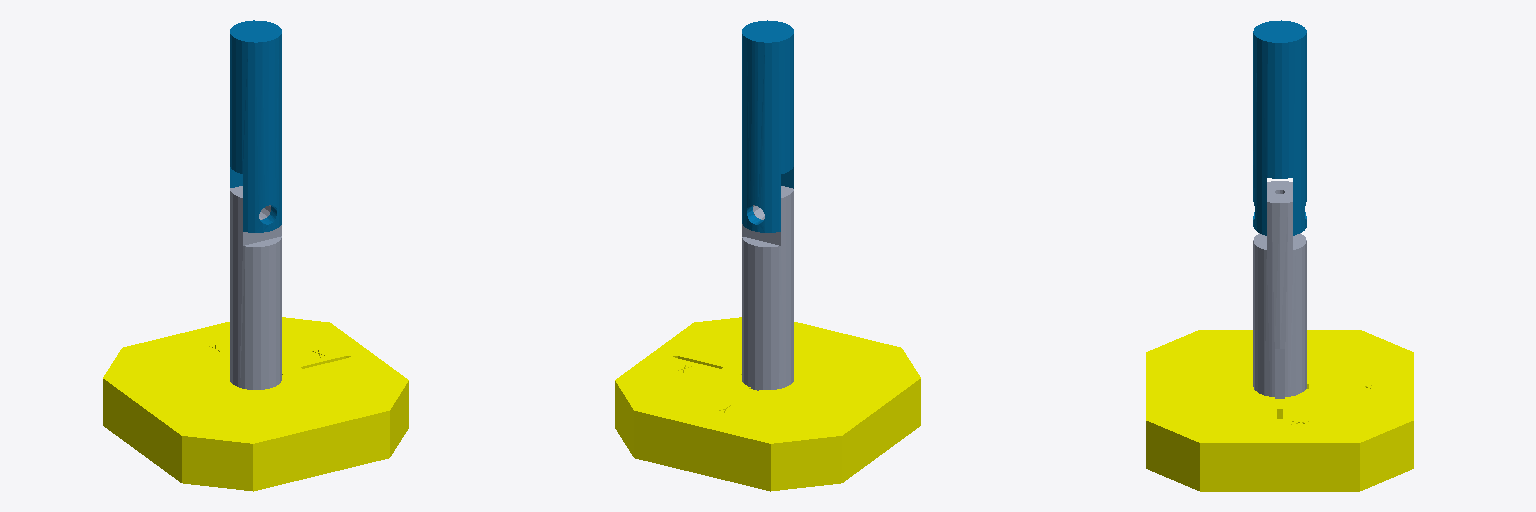
URDF robot description (mylink_urdf):
<?xml version="1.0" encoding="utf-8"?>
<!-- This URDF was automatically created by SolidWorks to URDF Exporter! Originally created by [author] ([email redacted]) 
     Commit Version: 1.5.1-0-g916b5db  Build Version: 1.5.7152.31018
     For more information, please see http://wiki.ros.org/sw_urdf_exporter -->
<robot
  name="mylink_urdf">

  <link name="world"/>
  <joint name="fixed" type="fixed">
    <parent link="world"/>
    <child link="base_link"/>
  </joint>

  <link
    name="base_link">
    <inertial>
      <origin
        xyz="-1.8503E-05 -3.9839E-06 0.0049956"
        rpy="0 0 0" />
      <mass
        value="22.169" />
      <inertia
        ixx="4.4372E-01"
        ixy="1.3719E-10"
        ixz="1.4194E-09"
        iyy="4.432E-01"
        iyz="1.3021E-10"
        izz="8.5002E-01" />
    </inertial>
    <visual>
      <origin
        xyz="0 0 0"
        rpy="0 0 0" />
      <geometry>
        <mesh
          filename="package://mylink_urdf/meshes/base_link.STL" />
      </geometry>
      <material
        name="">
        <color
          rgba="1 1 0 1" />
      </material>
    </visual>
    <collision>
      <origin
        xyz="0 0 0"
        rpy="0 0 0" />
      <geometry>
        <mesh
          filename="package://mylink_urdf/meshes/base_link.STL" />
      </geometry>
    </collision>
  </link>
  <link
    name="link_1">
    <inertial>
      <origin
        xyz="-2.4999E-05 5.1564E-10 -0.023575"
        rpy="0 0 0" />
      <mass
        value="9.5404" />
      <inertia
        ixx="1.7851E-01"
        ixy="0"
        ixz="0"
        iyy="1.7915E-01"
        iyz="0"
        izz="1.1684E-01" />
    </inertial>
    <visual>
      <origin
        xyz="0 0 0"
        rpy="0 0 0" />
      <geometry>
        <mesh
          filename="package://mylink_urdf/meshes/link_1.STL" />
      </geometry>
      <material
        name="">
        <color
          rgba="0.66667 0.69804 0.76863 1" />
      </material>
    </visual>
    <collision>
      <origin
        xyz="0 0 0"
        rpy="0 0 0" />
      <geometry>
        <mesh
          filename="package://mylink_urdf/meshes/link_1.STL" />
      </geometry>
    </collision>
  </link>
  <joint
    name="joint_1"
    type="revolute">
    <origin
      xyz="0 0 0.0465"
      rpy="0 0 0" />
    <parent
      link="base_link" />
    <child
      link="link_1" />
    <axis
      xyz="0 0 1" />
    <limit
      lower="-3.14"
      upper="3.14"
      effort="2.5"
      velocity="2" />
  </joint>
  <link
    name="link_2">
    <inertial>
      <origin
        xyz="0.020159 -1.0519E-09 3.8421E-09"
        rpy="0 0 0" />
      <mass
        value="6.7277" />
      <inertia
        ixx="8.856E-01"
        ixy="0"
        ixz="0"
        iyy="7.2036E-01"
        iyz="0"
        izz="7.1373E-01" />
    </inertial>
    <visual>
      <origin
        xyz="0 0 0"
        rpy="0 0 0" />
      <geometry>
        <mesh
          filename="package://mylink_urdf/meshes/link_2.STL" />
      </geometry>
      <material
        name="">
        <color
          rgba="0.039216 0.4902 0.7098 1" />
      </material>
    </visual>
    <collision>
      <origin
        xyz="0 0 0"
        rpy="0 0 0" />
      <geometry>
        <mesh
          filename="package://mylink_urdf/meshes/link_2.STL" />
      </geometry>
    </collision>
  </link>
  <joint
    name="joint_2"
    type="revolute">
    <origin
      xyz="0 0 0"
      rpy="1.5708 -1.5708 0" />
    <parent
      link="link_1" />
    <child
      link="link_2" />
    <axis
      xyz="0 0 -1" />
    <limit
      lower="-2.7"
      upper="2.7"
      effort="2.5"
      velocity="2" />
  </joint>

  <transmission name="tran1">
    <type>transmission_interface/SimpleTransmission</type>
    <joint name="joint_1">
      <hardwareInterface>hardware_interface/EffortJointInterface</hardwareInterface>
    </joint>
    <actuator name="motor1">
      <hardwareInterface>hardware_interface/EffortJointInterface</hardwareInterface>
      <mechanicalReduction>1</mechanicalReduction>
    </actuator> 
  </transmission>
  
  <transmission name="tran2">
    <type>transmission_interface/SimpleTransmission</type>
    <joint name="joint_2">
      <hardwareInterface>hardware_interface/EffortJointInterface</hardwareInterface>
    </joint>
    <actuator name="motor2">
      <hardwareInterface>hardware_interface/EffortJointInterface</hardwareInterface>
      <mechanicalReduction>1</mechanicalReduction>
    </actuator>
  </transmission>

  <gazebo reference="link_2">
    <mu1>0.2</mu1>
    <mu2>0.2</mu2>
    <material>Gazebo/Black</material>
  </gazebo>
  <gazebo reference="link_1">
    <mu1>0.2</mu1>
    <mu2>0.2</mu2>
    <material>Gazebo/Orange</material>
  </gazebo>


  <gazebo>
    <plugin name="gazebo_ros_control" filename="libgazebo_ros_control.so">
      <robotNamespace>/mylink</robotNamespace>
      <robotSimType>gazebo_ros_control/DefaultRobotHWSim</robotSimType>
    </plugin>
  </gazebo>







</robot>

--- What the picture shows (computed from the rendered views, not written in the file) ---
3 views of the same robot in one strip: view 1: azimuth 30°, elevation 25°; view 2: azimuth 150°, elevation 25°; view 3: azimuth 270°, elevation 25° (orthographic).
Robot: mylink_urdf — 4 links, 3 joints (2 revolute, 1 fixed); root link world; default pose: all joints at 0.
Visible links, largest first — view 1: base_link, link_2, link_1; view 2: base_link, link_2, link_1; view 3: base_link, link_1, link_2.
Boxes of the visible links, bbox=[...] form: base_link: bbox=[103, 317, 408, 491]; link_2: bbox=[230, 20, 281, 232]; link_1: bbox=[230, 186, 281, 389]; base_link: bbox=[615, 317, 920, 491]; link_2: bbox=[742, 20, 793, 232]; link_1: bbox=[742, 186, 793, 390]; base_link: bbox=[1146, 330, 1413, 491]; link_1: bbox=[1253, 181, 1306, 398]; link_2: bbox=[1253, 20, 1306, 235].
Size in the robot's own frame: 0.05 by 0.05 by 0.083 metres.
3 mesh visuals loaded from 3 distinct referenced files (3 binary STL).